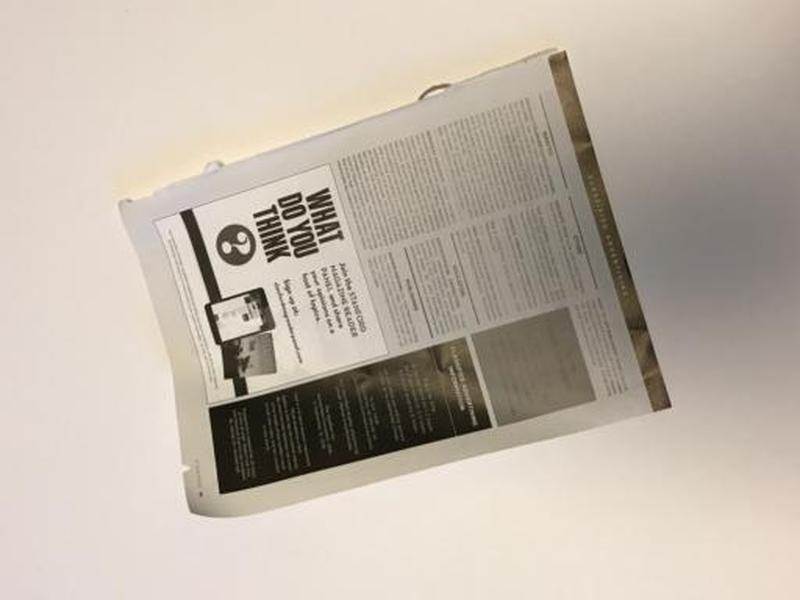paper: (103, 40, 681, 523)
